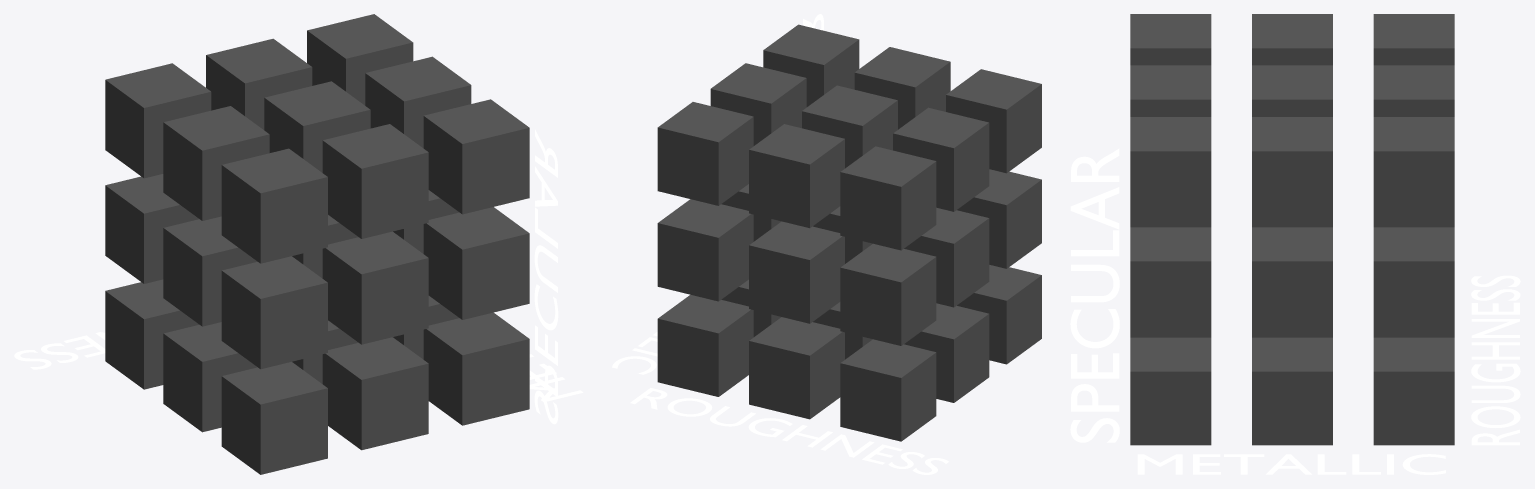
The model's file is personaFinishesTesting.glb.
The picture shows the model from 3 angles, left to right: view 1: azimuth 30°, elevation 25°; view 2: azimuth 150°, elevation 25°; view 3: azimuth 270°, elevation 25°; orthographic projection. The views are drawn at different scales.
Visible parts, largest first — view 1: Cube.024, Cube.021, Cube.018, Cube.006, Cube.015, Cube, Cube.003, Cube.009, Cube.012, Cube.025, Cube.026, Cube.022 (+13 smaller); view 2: Cube.026, Cube.020, Cube.023, Cube.008, Cube.017, Cube.005, Cube.002, Cube.011, Cube.014, Cube.025, Cube.024, Cube.022 (+12 smaller); view 3: Cube, Cube.002, Cube.003, Cube.005, Cube.006, Cube.008, Cube.001, Cube.004, Cube.007, Text.001, Cube.015, Cube.017 (+6 smaller).
Boxes of the visible parts, bbox=[...] form: Cube.024: bbox=[221, 148, 327, 263]; Cube.021: bbox=[221, 256, 327, 369]; Cube.018: bbox=[221, 362, 327, 474]; Cube.006: bbox=[423, 99, 529, 214]; Cube.015: bbox=[322, 124, 428, 238]; Cube: bbox=[423, 312, 529, 425]; Cube.003: bbox=[423, 207, 529, 319]; Cube.009: bbox=[322, 337, 428, 450]; Cube.012: bbox=[322, 231, 428, 344]; Cube.025: bbox=[163, 106, 269, 220]; Cube.026: bbox=[105, 63, 211, 178]; Cube.022: bbox=[163, 216, 257, 326]; Cube.026: bbox=[840, 146, 936, 250]; Cube.020: bbox=[840, 339, 936, 441]; Cube.023: bbox=[840, 243, 936, 345]; Cube.008: bbox=[657, 102, 753, 205]; Cube.017: bbox=[749, 124, 844, 228]; Cube.005: bbox=[657, 199, 753, 301]; Cube.002: bbox=[657, 294, 753, 396]; Cube.011: bbox=[749, 317, 844, 419]; Cube.014: bbox=[749, 221, 844, 323]; Cube.025: bbox=[893, 107, 989, 211]; Cube.024: bbox=[946, 69, 1041, 173]; Cube.022: bbox=[904, 207, 989, 307]; Cube: bbox=[1130, 337, 1211, 445]; Cube.002: bbox=[1373, 337, 1454, 445]; Cube.003: bbox=[1130, 227, 1211, 334]; Cube.005: bbox=[1373, 227, 1454, 334]; Cube.006: bbox=[1130, 117, 1211, 224]; Cube.008: bbox=[1373, 117, 1454, 224]; Cube.001: bbox=[1252, 337, 1332, 445]; Cube.004: bbox=[1252, 227, 1332, 334]; Cube.007: bbox=[1252, 117, 1332, 224]; Text.001: bbox=[1070, 148, 1119, 442]; Cube.015: bbox=[1130, 65, 1211, 116]; Cube.017: bbox=[1373, 65, 1454, 116].
Bounding box in the file's own units: 2.91 × 2.02 × 2.77.
28 materials, 26 textured.
